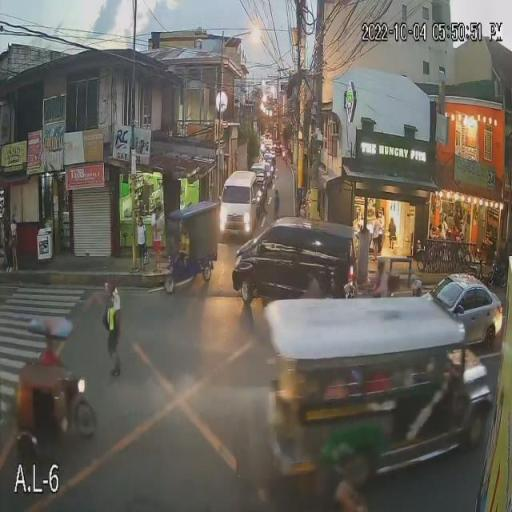helmet: (410, 279, 424, 292)
